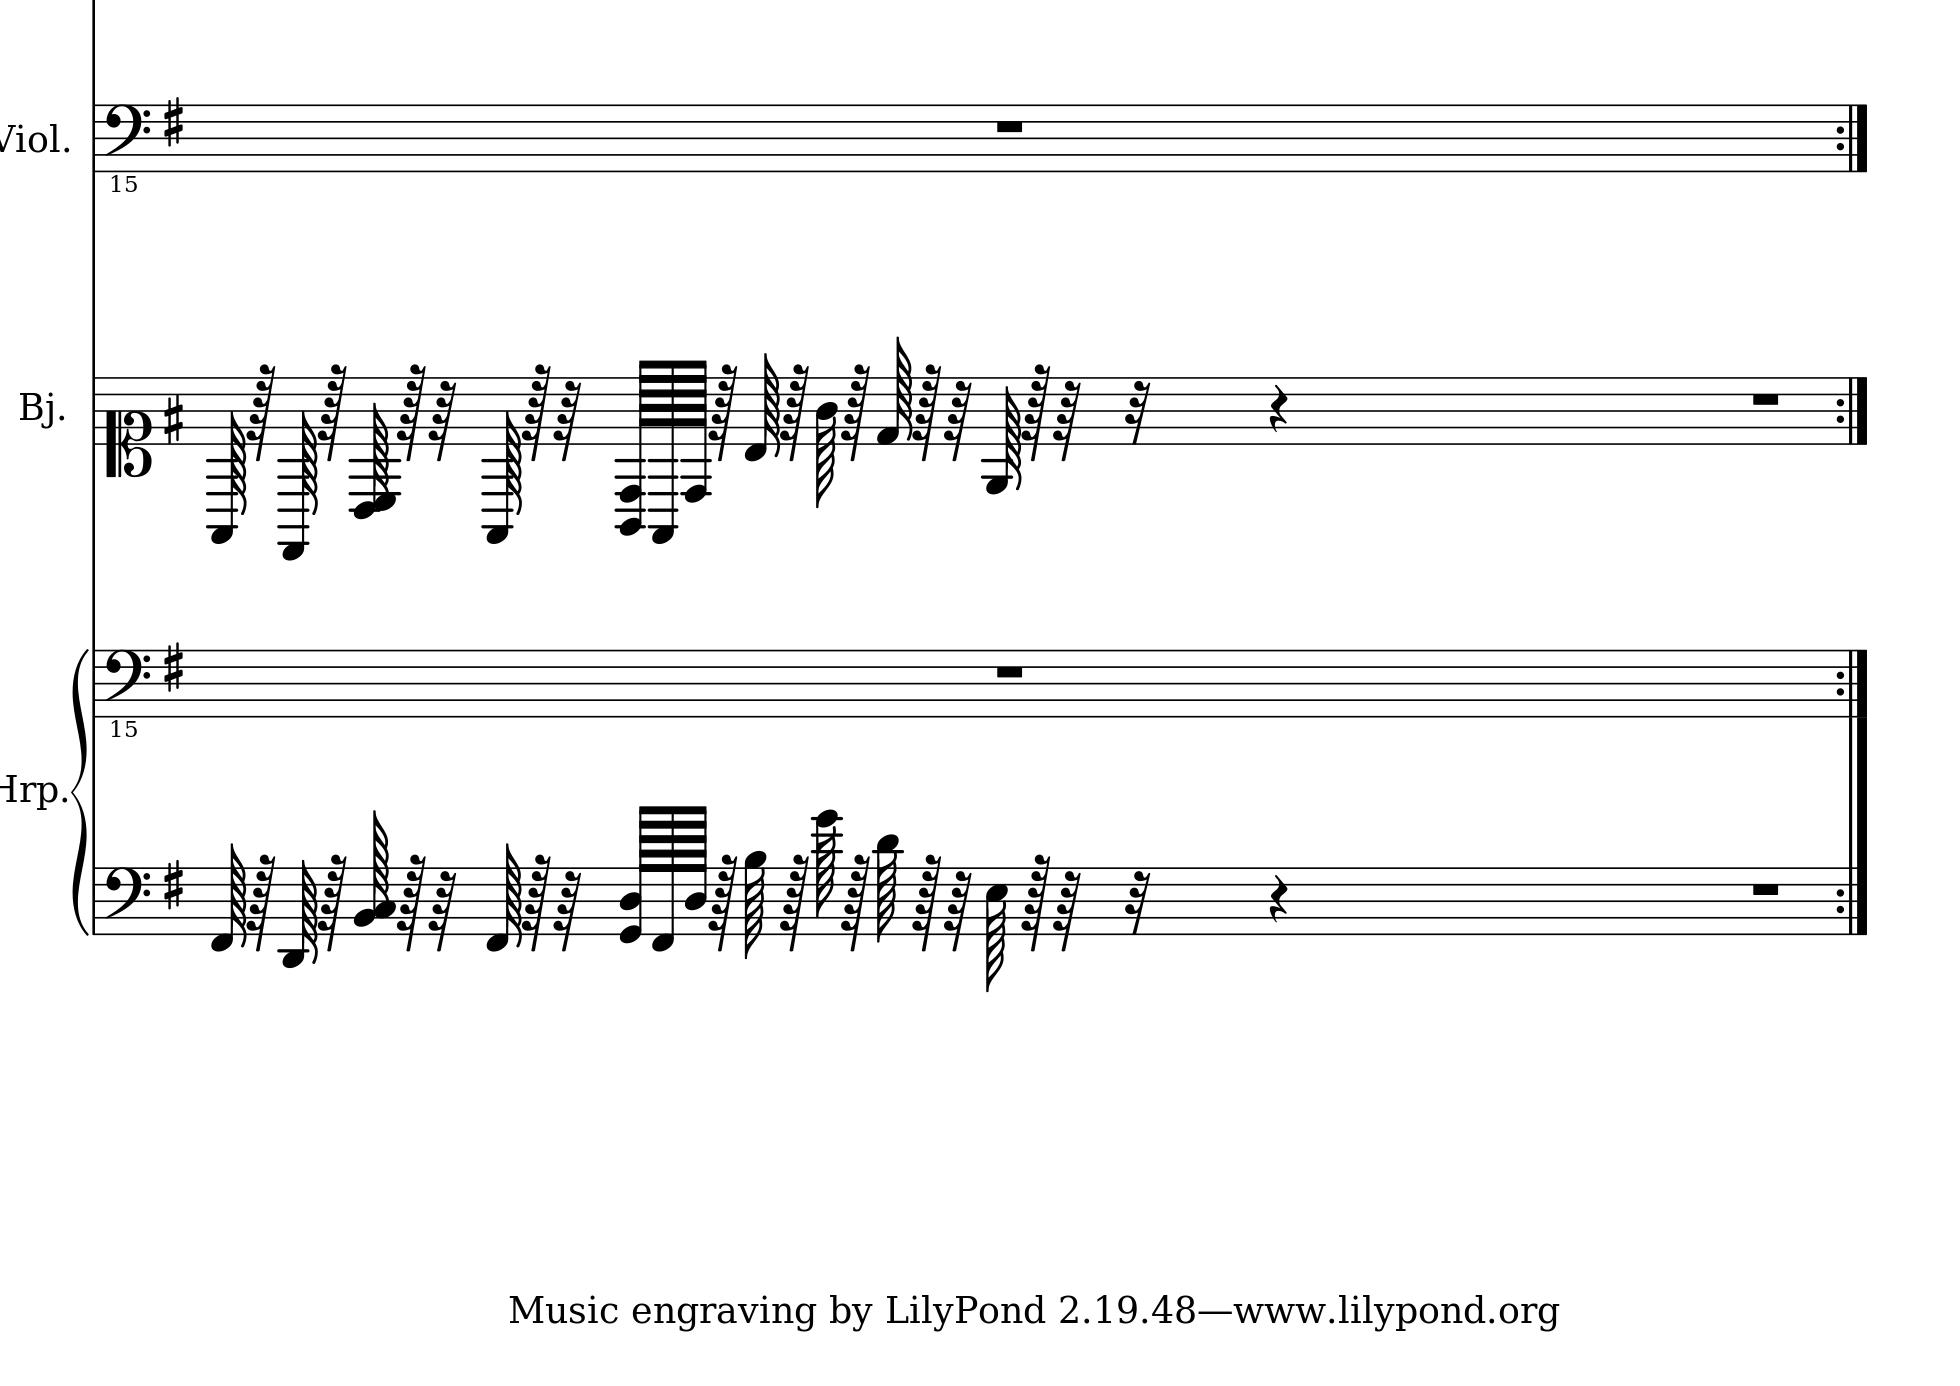128_-1: (484, 841, 523, 951), (651, 805, 678, 952), (211, 844, 246, 952)
128_-3: (277, 859, 318, 969)
128_-5: (981, 376, 1023, 496)
128_-6: (679, 358, 712, 505)
128_11: (871, 832, 901, 945)
128_14: (811, 810, 841, 936)
128_3: (877, 337, 916, 454)
128_4: (684, 805, 709, 937), (813, 370, 837, 502)
128_5: (984, 862, 1008, 988)
128_9: (742, 849, 766, 958)
Brace: (69, 646, 88, 936)
DHigh_Fclef: (102, 100, 151, 199), (102, 646, 151, 742)
Fclef: (100, 864, 151, 937)
Rests1: (1746, 388, 1785, 409), (1747, 877, 1783, 898), (991, 115, 1027, 135), (991, 661, 1027, 681)
Rests128: (394, 360, 427, 460), (316, 361, 349, 459), (246, 360, 277, 460), (840, 847, 870, 952), (910, 361, 942, 460), (396, 850, 426, 949), (1021, 850, 1051, 949), (520, 361, 550, 459), (912, 852, 942, 949), (708, 361, 736, 460), (780, 360, 808, 459), (841, 361, 870, 460), (1023, 361, 1051, 459), (247, 850, 276, 948), (780, 852, 808, 949), (709, 849, 736, 951), (319, 850, 346, 949), (523, 850, 550, 948)
Rests32: (1123, 867, 1152, 937), (1123, 378, 1152, 447)
Rests4: (1267, 873, 1290, 925), (1267, 382, 1290, 433)
Rests64: (552, 868, 583, 951), (1053, 378, 1083, 462), (943, 868, 973, 952), (429, 378, 459, 460), (553, 378, 583, 460), (943, 378, 973, 460), (427, 868, 457, 951), (1054, 868, 1081, 952)
RightRepeatSign: (1833, 376, 1872, 445), (1833, 648, 1872, 717), (1833, 867, 1872, 934), (1834, 103, 1872, 172)
Sharp: (157, 637, 187, 694), (159, 91, 187, 148), (159, 856, 186, 913), (157, 390, 184, 445)
Single_barline: (85, 376, 102, 445), (88, 867, 102, 933), (88, 105, 100, 171), (88, 649, 100, 715)
Soprano_Cclef: (102, 373, 154, 480)
